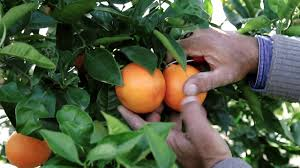orange: (113, 58, 166, 110), (160, 59, 210, 113), (5, 127, 55, 168)
